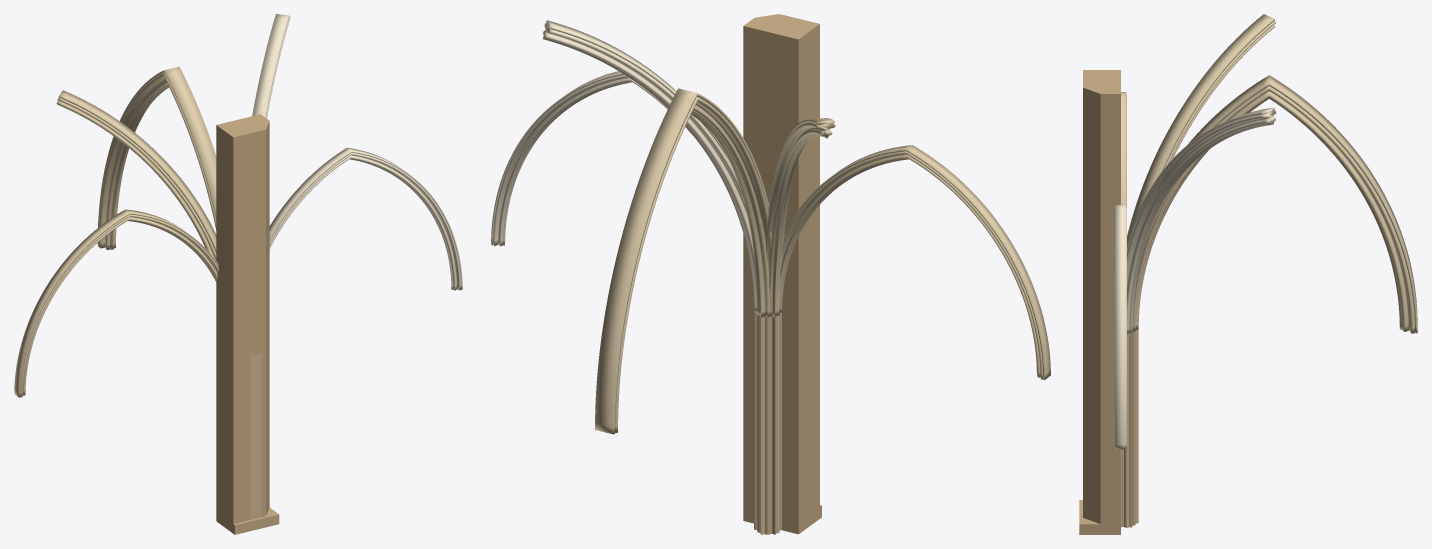
The model's file is R03_TEN_PROTECTED_PIER_ARCH_AND_BEARING_MASONRY_REFERENCES.glb.
3 views of the same model, side by side, from view 1: azimuth 30°, elevation 25°; view 2: azimuth 150°, elevation 25°; view 3: azimuth 270°, elevation 25° (orthographic). The views are drawn at different scales.
Parts seen in each view (by area): view 1: RECEIVING_S_UPPER_0, RECEIVING_S_LOWER_0, CHAPEL_TRANSVERSE_31000, BAY1_FORMERET_0, BAY1_RIB_1, BAY2_FORMERET_0, SHARED_PIER_S, BAY2_RIB_0, RECEIVING_S_LOWER_1, RECEIVING_S_PLINTH_0; view 2: RECEIVING_S_UPPER_0, CHAPEL_TRANSVERSE_31000, RECEIVING_S_LOWER_0, BAY1_FORMERET_0, SHARED_PIER_S, BAY2_RIB_0, BAY1_RIB_1, BAY2_FORMERET_0, RECEIVING_S_LOWER_1, RECEIVING_S_PLINTH_0; view 3: RECEIVING_S_UPPER_0, CHAPEL_TRANSVERSE_31000, RECEIVING_S_LOWER_1, BAY2_RIB_0, BAY1_RIB_1, BAY2_FORMERET_0, SHARED_PIER_S, BAY1_FORMERET_0, RECEIVING_S_PLINTH_0.
Boxes of the visible parts, bbox=[...] form: RECEIVING_S_UPPER_0: bbox=[216, 114, 269, 359]; RECEIVING_S_LOWER_0: bbox=[216, 347, 249, 523]; CHAPEL_TRANSVERSE_31000: bbox=[97, 66, 216, 249]; BAY1_FORMERET_0: bbox=[14, 209, 218, 397]; BAY1_RIB_1: bbox=[56, 90, 216, 260]; BAY2_FORMERET_0: bbox=[269, 147, 462, 290]; SHARED_PIER_S: bbox=[250, 353, 261, 519]; BAY2_RIB_0: bbox=[252, 14, 290, 118]; RECEIVING_S_LOWER_1: bbox=[261, 344, 269, 517]; RECEIVING_S_PLINTH_0: bbox=[216, 508, 279, 534]; RECEIVING_S_UPPER_0: bbox=[743, 14, 819, 316]; CHAPEL_TRANSVERSE_31000: bbox=[595, 88, 779, 434]; RECEIVING_S_LOWER_0: bbox=[782, 302, 819, 522]; BAY1_FORMERET_0: bbox=[779, 145, 1050, 379]; SHARED_PIER_S: bbox=[754, 312, 781, 534]; BAY2_RIB_0: bbox=[542, 20, 757, 312]; BAY1_RIB_1: bbox=[766, 118, 835, 317]; BAY2_FORMERET_0: bbox=[491, 71, 694, 246]; RECEIVING_S_LOWER_1: bbox=[743, 303, 753, 511]; RECEIVING_S_PLINTH_0: bbox=[743, 505, 821, 534]; RECEIVING_S_UPPER_0: bbox=[1083, 70, 1120, 341]; CHAPEL_TRANSVERSE_31000: bbox=[1132, 75, 1417, 333]; RECEIVING_S_LOWER_1: bbox=[1083, 335, 1120, 524]; BAY2_RIB_0: bbox=[1127, 107, 1276, 334]; BAY1_RIB_1: bbox=[1127, 14, 1275, 243]; BAY2_FORMERET_0: bbox=[1115, 204, 1126, 449]; SHARED_PIER_S: bbox=[1121, 329, 1138, 527]; BAY1_FORMERET_0: bbox=[1121, 92, 1126, 207]; RECEIVING_S_PLINTH_0: bbox=[1079, 500, 1120, 534].
Bounding box in the file's own units: 4800 × 4400 × 2850.
